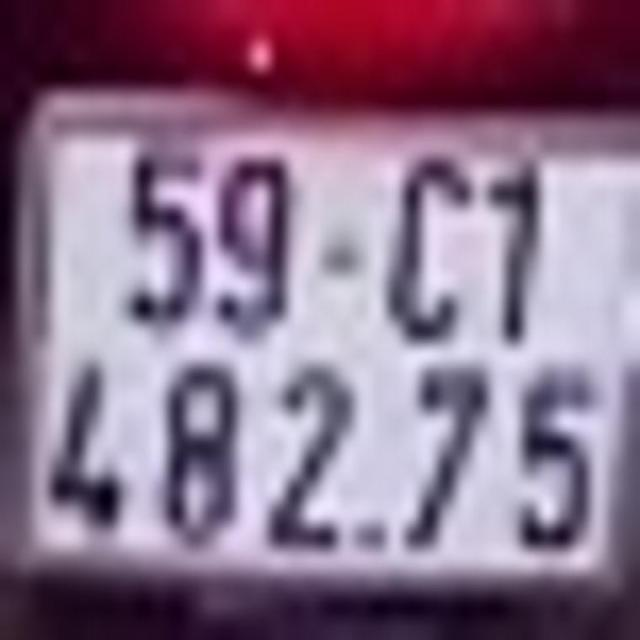1: (487, 160, 545, 354)
2: (271, 364, 348, 550)
4: (52, 361, 123, 528)
5: (521, 372, 594, 556), (132, 156, 203, 324)
7: (405, 367, 483, 547)
8: (165, 360, 238, 551)
9: (215, 154, 292, 336)
C: (390, 154, 472, 345)
